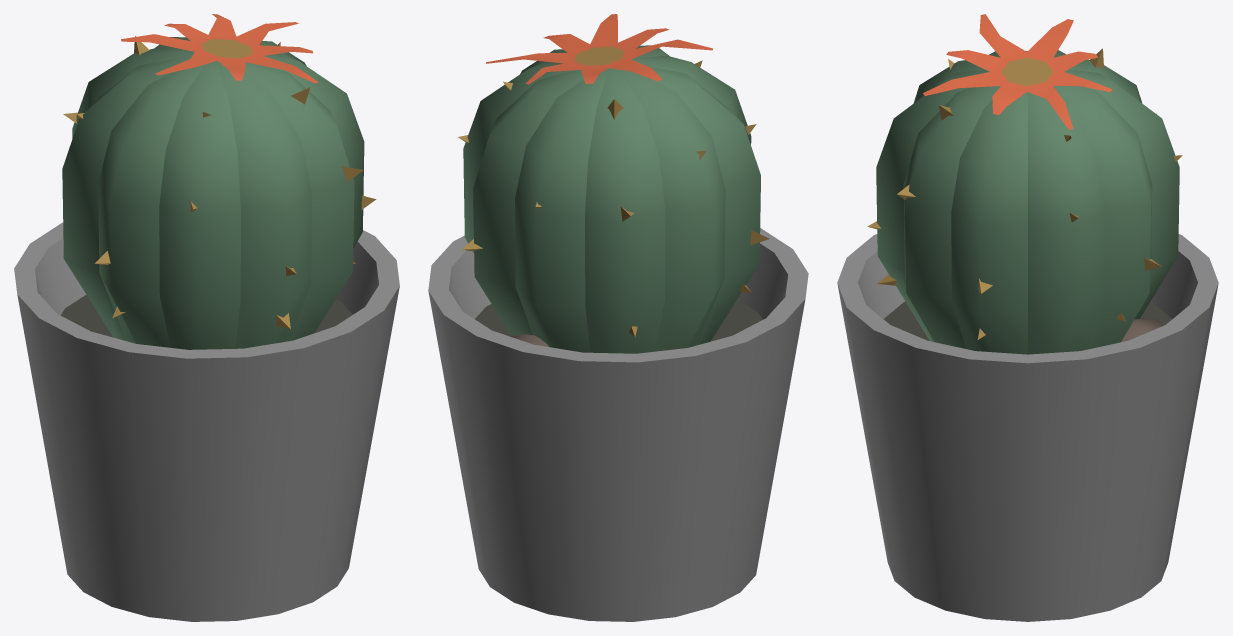
Rendered from cactus.fbx.
3 renders of one model, left to right at view 1: azimuth 30°, elevation 25°; view 2: azimuth 150°, elevation 25°; view 3: azimuth 270°, elevation 25°, orthographic.
Parts seen in each view (by area): view 1: cactus; view 2: cactus; view 3: cactus.
Boxes of the visible parts, x1,y1,x2,y2 form: cactus: [14, 14, 399, 621]; cactus: [428, 14, 808, 621]; cactus: [837, 14, 1218, 621].
Size of the model in its own units: 15.75 by 23.38 by 15.75.
